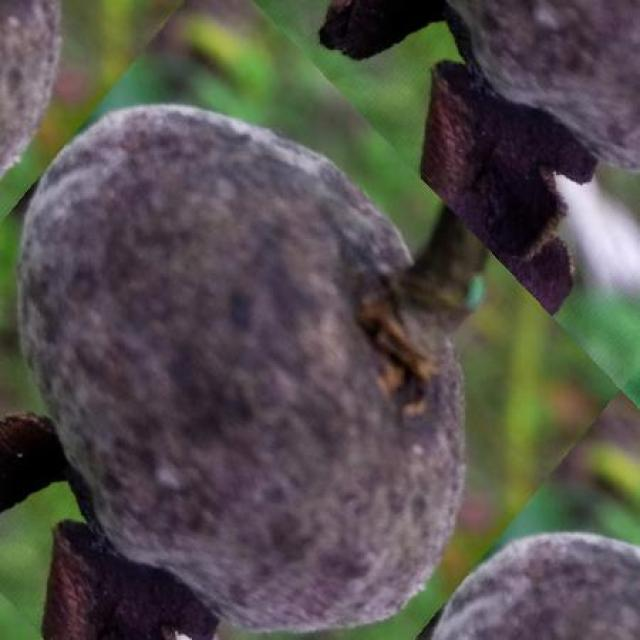Phytopthora: (20, 106, 464, 629)
